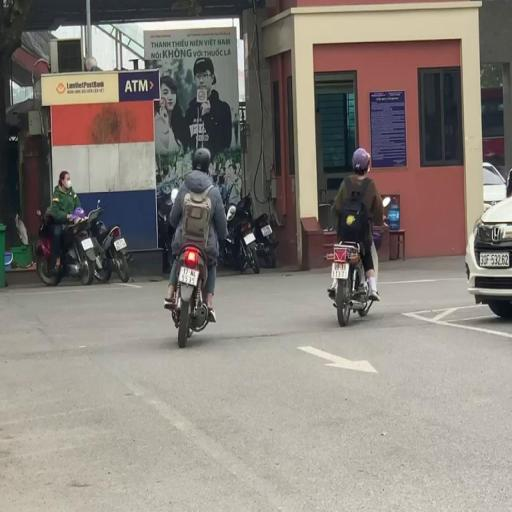bike: (164, 146, 228, 348), (326, 148, 392, 326)
numberplate: (176, 264, 200, 286), (331, 261, 350, 280), (243, 230, 256, 246), (81, 236, 93, 252), (114, 238, 127, 252), (262, 224, 272, 237)
with helmet: (192, 147, 211, 172), (352, 150, 372, 172)
